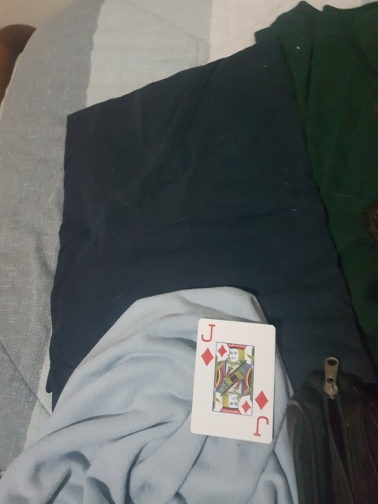jack: (191, 317, 278, 443)
